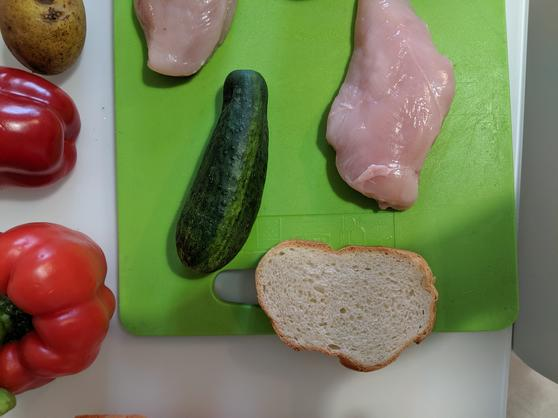chicken_fillet: (323, 1, 456, 210), (132, 1, 237, 77)
cucumber: (171, 70, 271, 274)
pepper: (1, 222, 116, 393), (1, 66, 81, 185)
potato: (1, 1, 87, 75)
white_bread: (256, 238, 438, 372)
